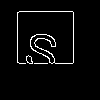S: (22, 22, 63, 74)
